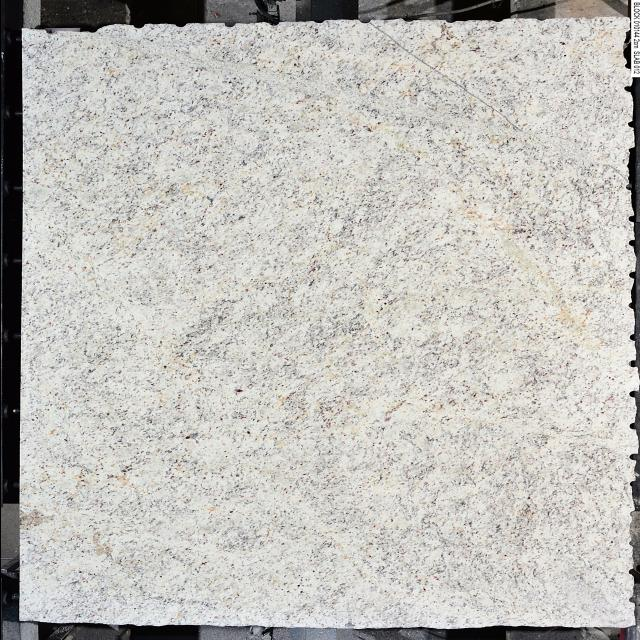chapa: (20, 19, 636, 628)
veio: (624, 358, 640, 370), (626, 452, 638, 462), (621, 85, 634, 94), (132, 22, 146, 30), (625, 215, 638, 223), (628, 389, 638, 396), (625, 182, 633, 190), (627, 121, 636, 128)
